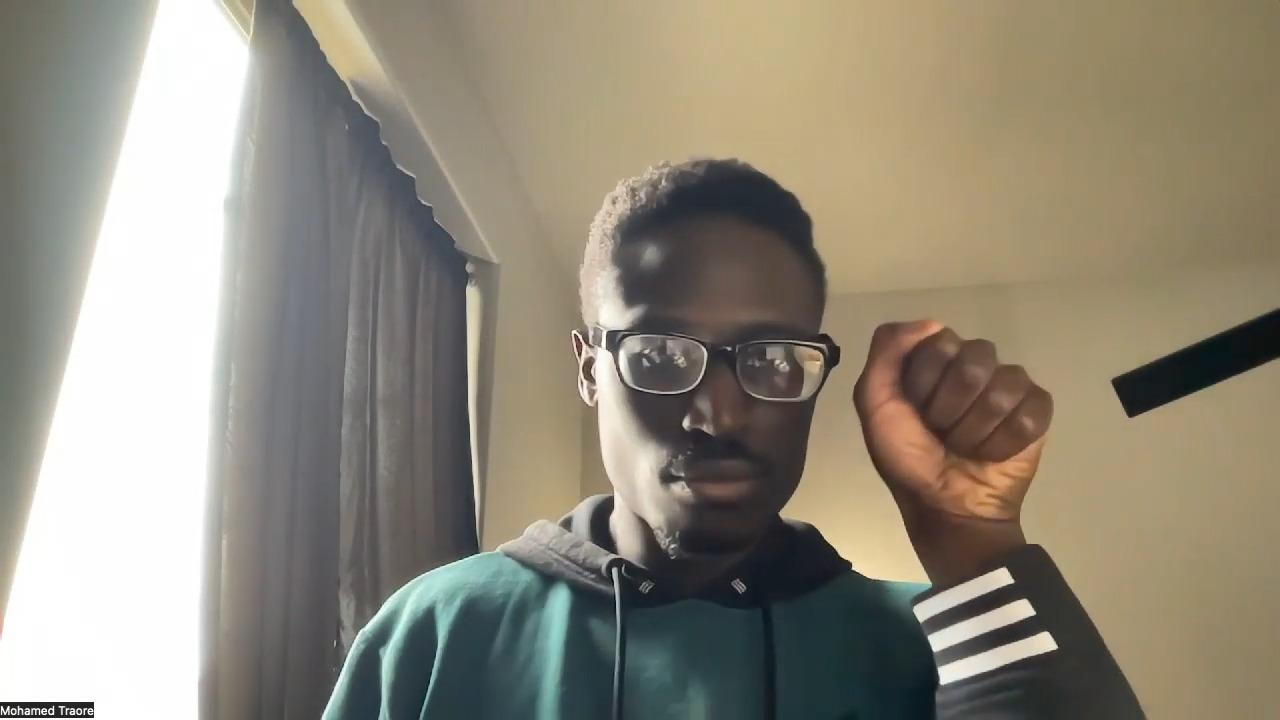Rock: (853, 317, 1057, 525)
